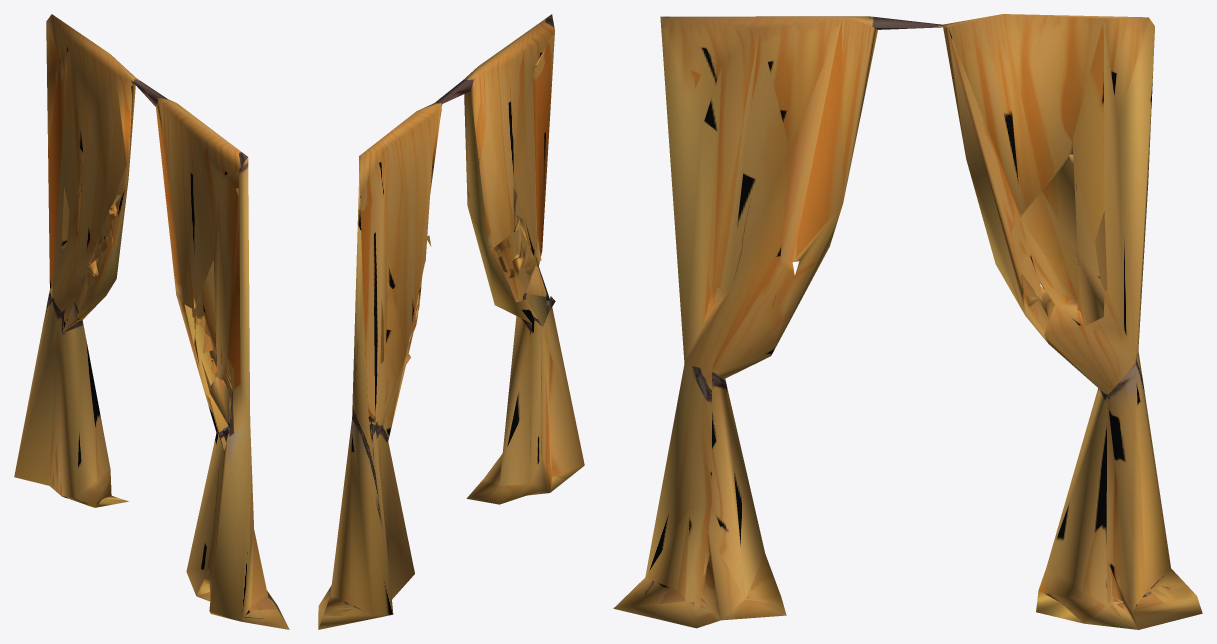
The model's file is Curtan Yellow.fbx.
The picture shows the model from 3 angles, left to right: view 1: azimuth 30°, elevation 25°; view 2: azimuth 150°, elevation 25°; view 3: azimuth 270°, elevation 25°; orthographic projection. The views are drawn at different scales.
Parts seen in each view (by area): view 1: Curtan Yellow; view 2: Curtan Yellow; view 3: Curtan Yellow.
Part boxes in pixels (bbox=[...]): Curtan Yellow: bbox=[14, 14, 289, 629]; Curtan Yellow: bbox=[318, 14, 584, 629]; Curtan Yellow: bbox=[613, 14, 1202, 629].
Size of the model in its own units: 16.81 by 93.6 by 84.86.
Materials: 1 (1 with a texture image).
